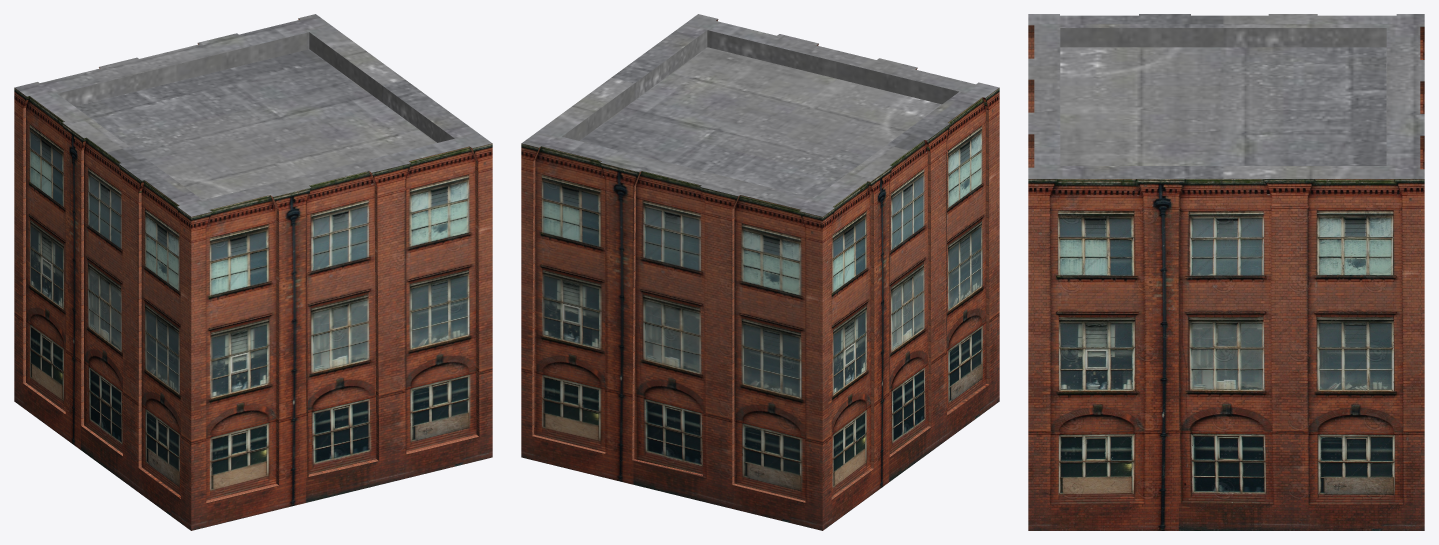
3 views of the same model, side by side, from view 1: azimuth 30°, elevation 25°; view 2: azimuth 150°, elevation 25°; view 3: azimuth 270°, elevation 25° (orthographic). The views are drawn at different scales.
Parts seen in each view (by area): view 1: Material2002, Material2001, Material2004; view 2: Material2002, Material2001, Material2004; view 3: Material2002, Material2001, Material2004.
Boxes of the visible parts, x1,y1,x2,y2 form: Material2002: (14,19,492,530); Material2001: (15,14,492,216); Material2004: (23,19,478,502); Material2002: (521,19,999,530); Material2001: (521,14,998,216); Material2004: (532,109,989,502); Material2002: (1028,26,1424,530); Material2001: (1028,14,1424,178); Material2004: (1028,25,1034,167).
Size of the model in its own units: 30.66 by 30.53 by 31.16.
5 materials, 5 textured.
